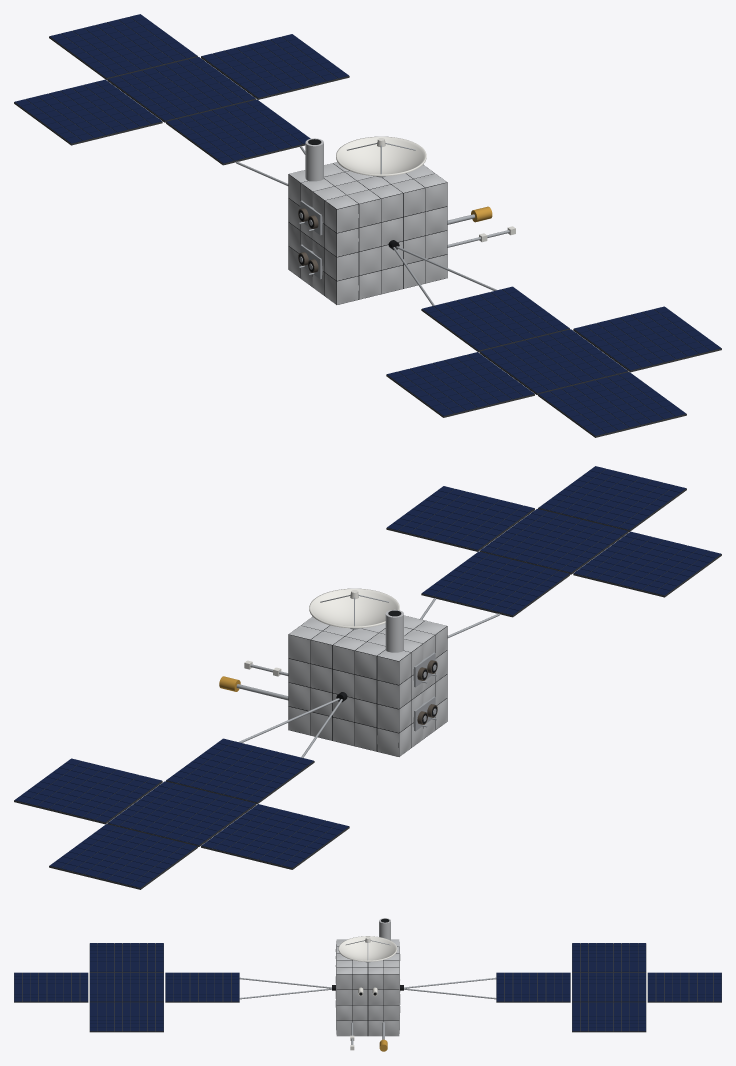
The model's file is psyche.glb.
3 renders of one model, top to bottom at view 1: azimuth 30°, elevation 25°; view 2: azimuth 150°, elevation 25°; view 3: azimuth 270°, elevation 25°, orthographic. The views are drawn at different scales.
Parts seen in each view (by area): view 1: solar-panel (×10), bus, dish, psyche; view 2: solar-panel (×10), bus, dish, psyche; view 3: solar-panel (×10), bus, dish, yoke (×2), psyche.
Boxes of the visible parts, x1,y1,x2,y2 form: solar-panel (×10): [14, 14, 721, 437]; bus: [288, 162, 447, 304]; dish: [336, 136, 426, 176]; psyche: [300, 138, 515, 279]; solar-panel (×10): [14, 466, 721, 889]; bus: [288, 615, 447, 756]; dish: [309, 588, 399, 628]; psyche: [219, 609, 435, 731]; solar-panel (×10): [14, 943, 721, 1032]; bus: [335, 939, 400, 1036]; dish: [338, 936, 397, 961]; yoke (×2): [239, 977, 496, 999]; psyche: [350, 918, 390, 1051].
Size of the model in its own units: 7.3 by 3.34 by 24.8.
